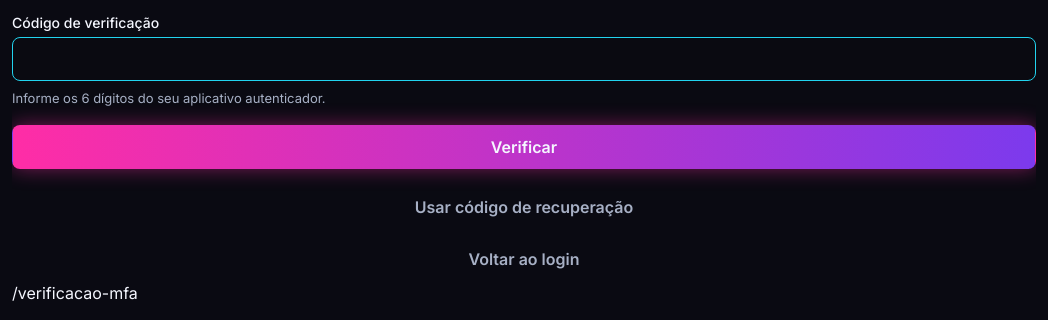
Test: MfaForm (AUTH-004) › "Voltar ao login" encerra a sessao pendente e retorna a autenticacao
The image size is (1048, 320).
Click the button "Voltar ao login": x=524, y=258 [444, 236, 605, 280]
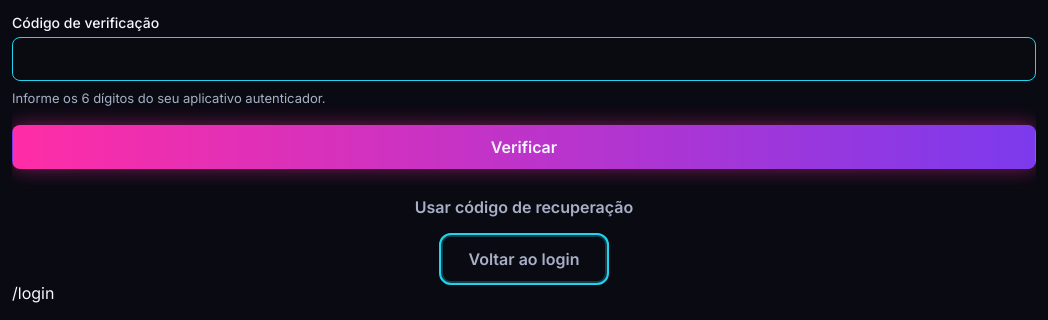
Now the text with test id "location" reads "/login", box [12, 282, 54, 302]
